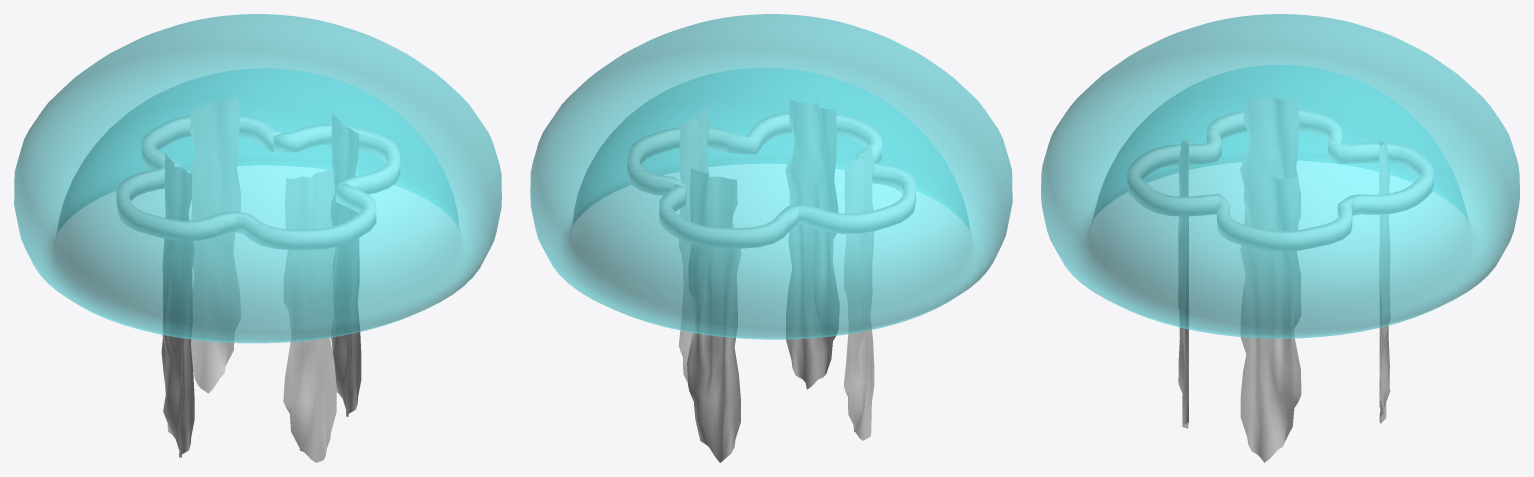
Rendered from jellyfish3_animation.fbx.
3 views of the same model, side by side, from view 1: azimuth 30°, elevation 25°; view 2: azimuth 150°, elevation 25°; view 3: azimuth 270°, elevation 25° (orthographic).
Parts seen in each view (by area): view 1: 球体.003, 圆环.006, 平面.004, 平面.008, 平面.001, 平面.002; view 2: 球体.003, 圆环.006, 平面.008, 平面.004, 平面.001, 平面.002; view 3: 球体.003, 平面.002, 圆环.006, 平面.001, 平面.004, 平面.008.
Part boxes in pixels (x1=…): 球体.003: x1=14, y1=14, x2=501, y2=343; 圆环.006: x1=117, y1=115, x2=399, y2=249; 平面.004: x1=283, y1=169, x2=336, y2=462; 平面.008: x1=189, y1=95, x2=240, y2=393; 平面.001: x1=161, y1=154, x2=194, y2=457; 平面.002: x1=331, y1=113, x2=361, y2=416; 球体.003: x1=530, y1=14, x2=1012, y2=339; 圆环.006: x1=627, y1=113, x2=915, y2=248; 平面.008: x1=687, y1=167, x2=741, y2=462; 平面.004: x1=785, y1=99, x2=839, y2=389; 平面.001: x1=843, y1=147, x2=874, y2=440; 平面.002: x1=678, y1=107, x2=709, y2=391; 球体.003: x1=1041, y1=14, x2=1519, y2=338; 平面.002: x1=1240, y1=176, x2=1301, y2=462; 圆环.006: x1=1127, y1=109, x2=1433, y2=250; 平面.001: x1=1240, y1=96, x2=1300, y2=353; 平面.004: x1=1178, y1=139, x2=1188, y2=428; 平面.008: x1=1379, y1=135, x2=1390, y2=423.
Size of the model in its own units: 170 by 151 by 170.
